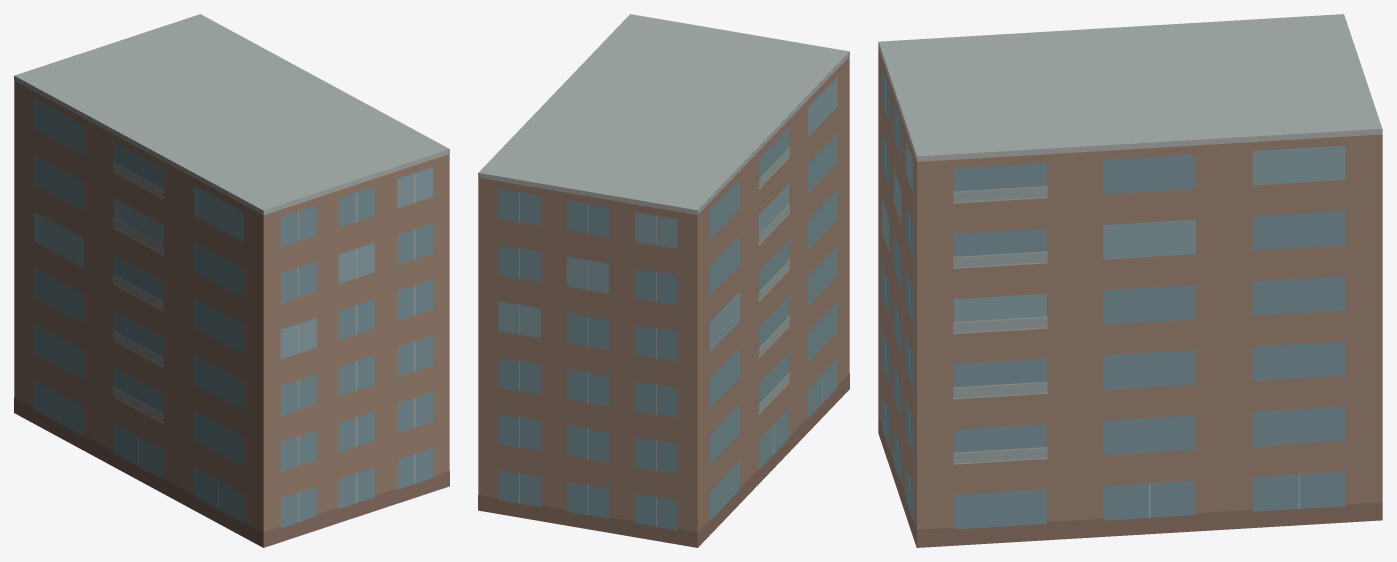
The model's file is survey-upis-32699022.glb.
The picture shows the model from 3 angles, left to right: view 1: azimuth 30°, elevation 25°; view 2: azimuth 150°, elevation 25°; view 3: azimuth 270°, elevation 25°; orthographic projection. The views are drawn at different scales.
Parts seen in each view (by area): view 1: survey-upis-32699022.tmp; view 2: survey-upis-32699022.tmp; view 3: survey-upis-32699022.tmp.
Part boxes in pixels (bbox=[...]): survey-upis-32699022.tmp: bbox=[14, 14, 449, 547]; survey-upis-32699022.tmp: bbox=[478, 14, 849, 547]; survey-upis-32699022.tmp: bbox=[878, 14, 1382, 547].
Bounding box in the file's own units: 13.43 × 17.2 × 20.08.
